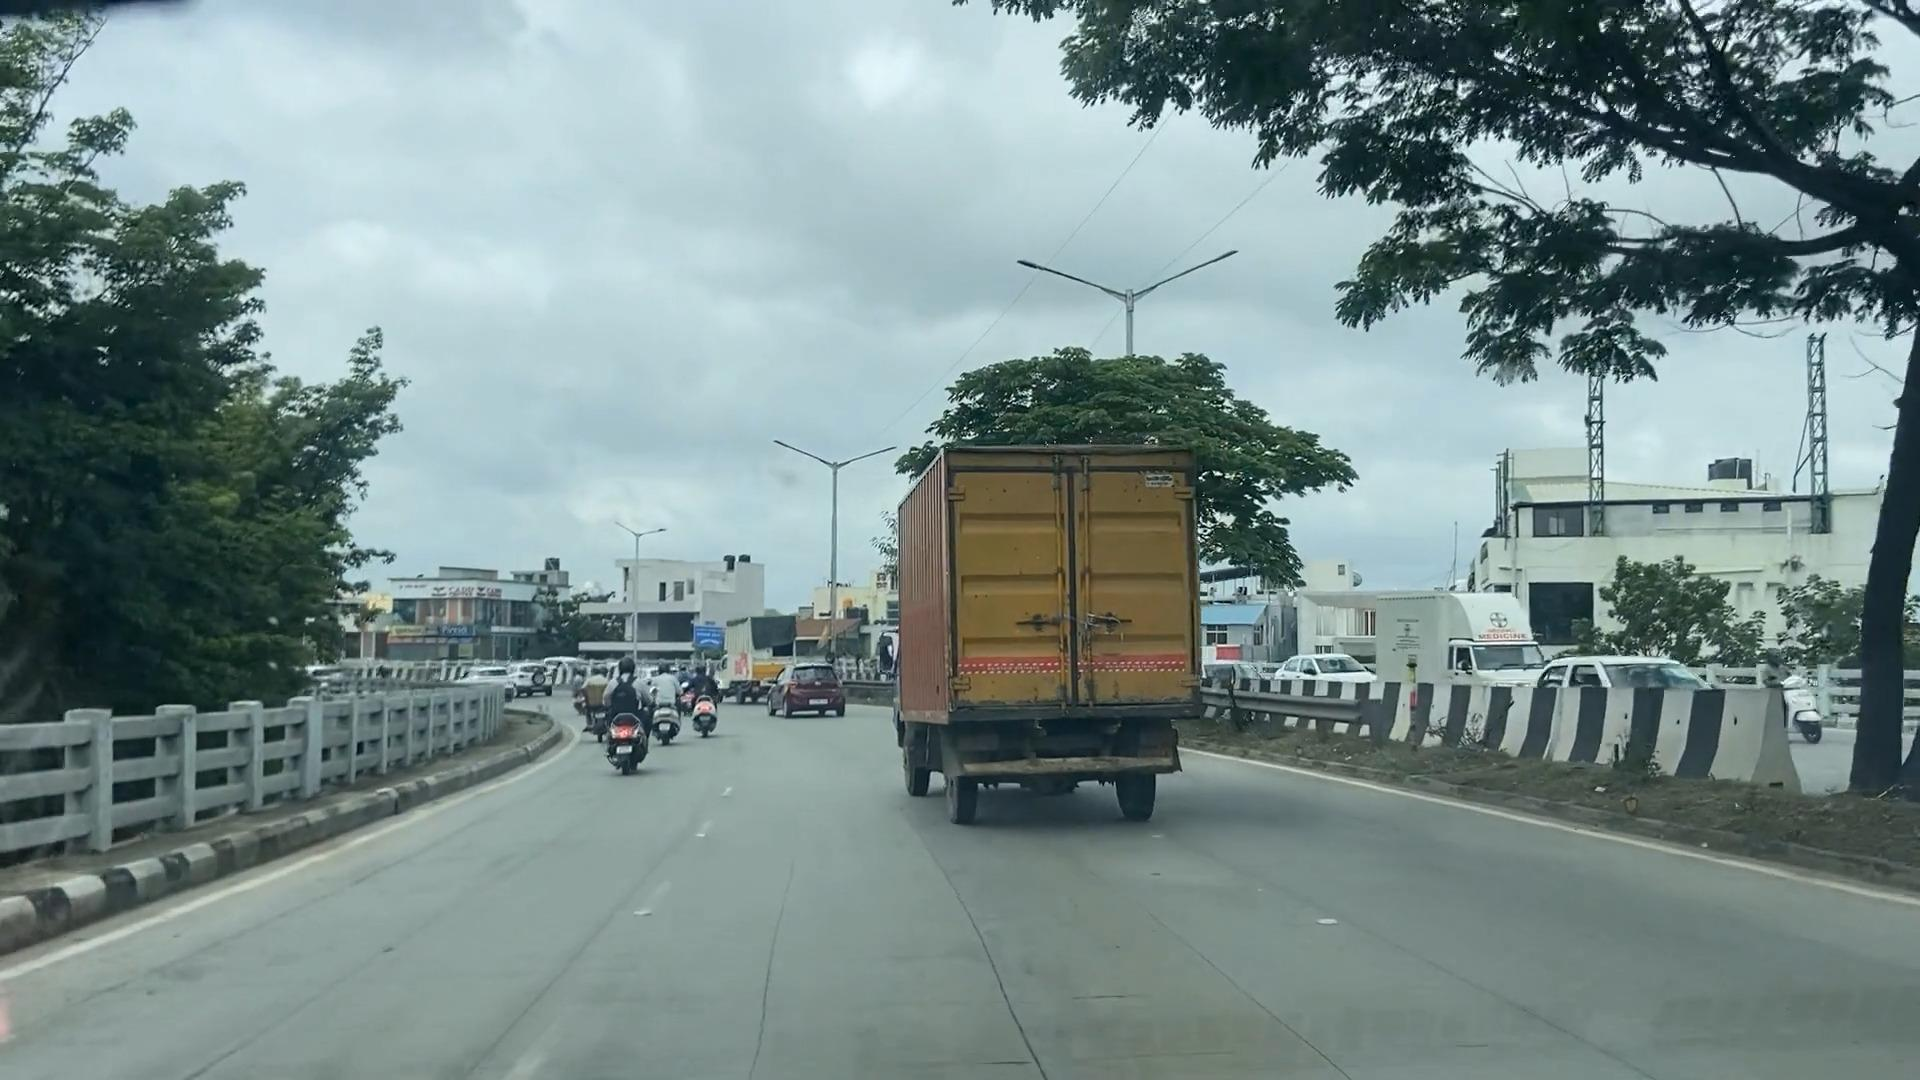HMV: (911, 438, 1220, 828)
LMV: (608, 648, 654, 773), (692, 656, 736, 750), (780, 658, 843, 723)
